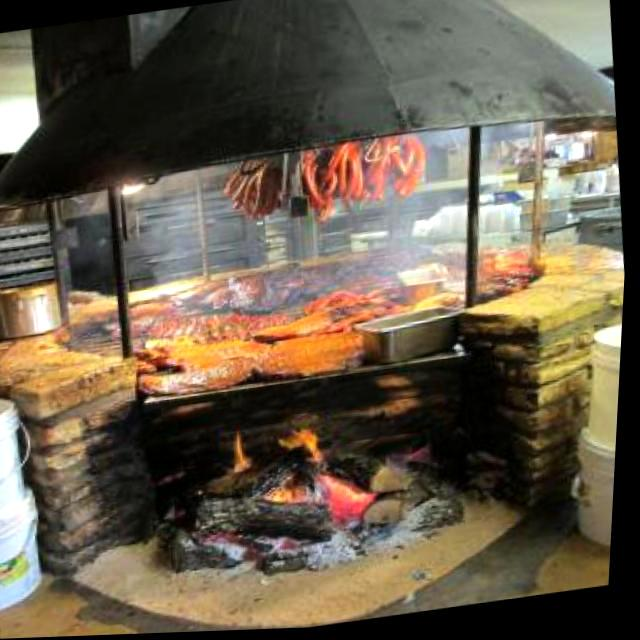fire: (210, 418, 350, 498)
